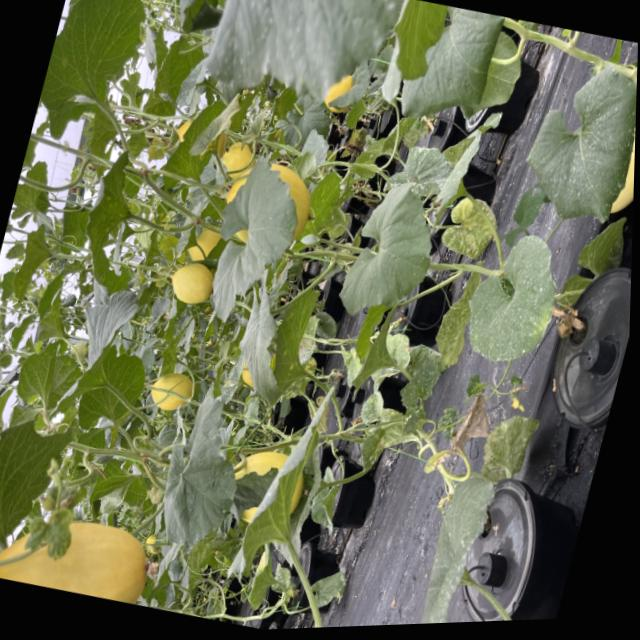CMV: (343, 384, 411, 479), (12, 335, 88, 414), (7, 215, 60, 309), (392, 339, 450, 415), (35, 282, 77, 348), (331, 342, 367, 390)
SLCV: (476, 404, 543, 485)
alternaria leaf blight: (187, 84, 243, 164)
bacterial wilt: (446, 386, 499, 459)
downy mildew: (33, 0, 154, 140)
healthy: (328, 169, 454, 330)
powdery mildew: (507, 47, 638, 238), (445, 221, 574, 391), (401, 459, 510, 624), (382, 135, 457, 201)
